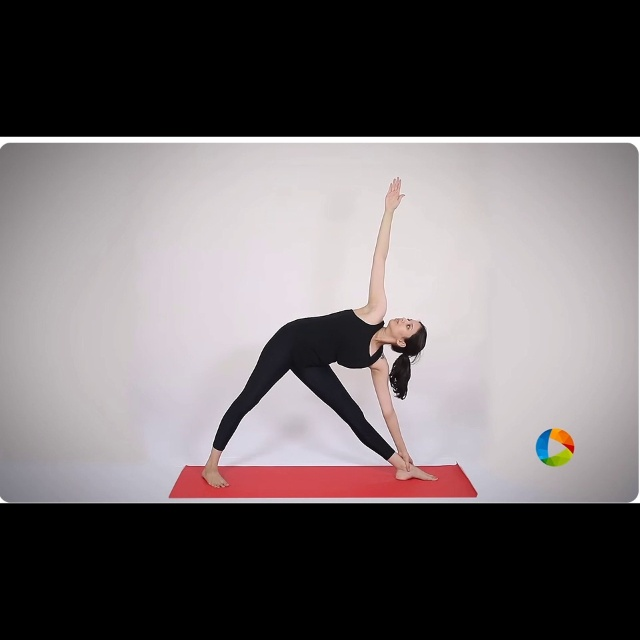Triangle_Pose: (203, 172, 448, 489)
